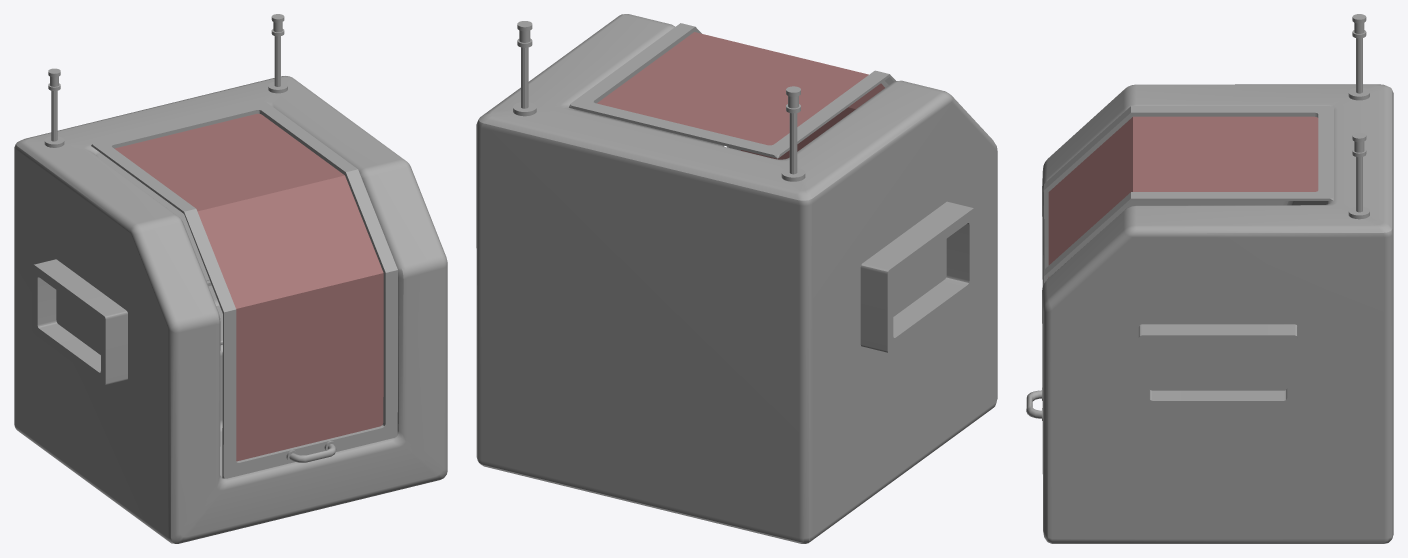
The model's file is Cutter_4.fbx.
The picture shows the model from 3 angles, left to right: view 1: azimuth 30°, elevation 25°; view 2: azimuth 150°, elevation 25°; view 3: azimuth 270°, elevation 25°; orthographic projection. The views are drawn at different scales.
Parts seen in each view (by area): view 1: polySurface106; view 2: polySurface106; view 3: polySurface106.
Part boxes in pixels (x1,y1,x2,y2): polySurface106: [14, 14, 447, 543]; polySurface106: [476, 14, 997, 543]; polySurface106: [1026, 14, 1393, 543].
Size of the model in its own units: 1.16 by 1.25 by 1.05.
